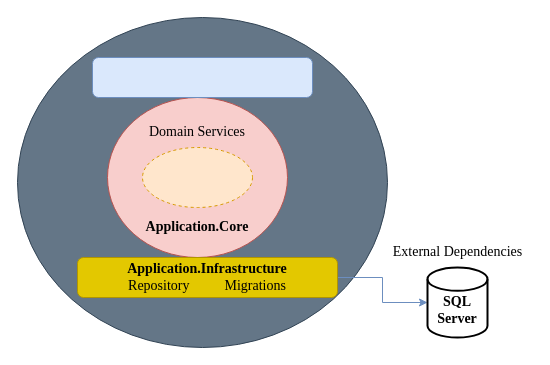
The diagram is 550 pixels wide and 365 high, and some of its shapes have lost their labels. The shapes that lost their labels are listed below. From the top down, each one's box as (x1, y1, x2, y2) in pixels, then its label:
(92, 56, 312, 98): Application.API
(142, 146, 252, 208): Interface Entities
